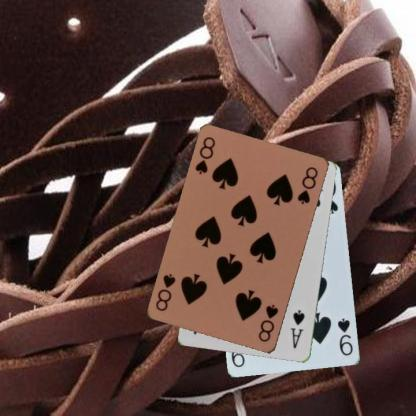8s: (192, 135, 217, 176), (256, 302, 280, 344)
9s: (335, 316, 355, 357)
As: (289, 308, 306, 350)
